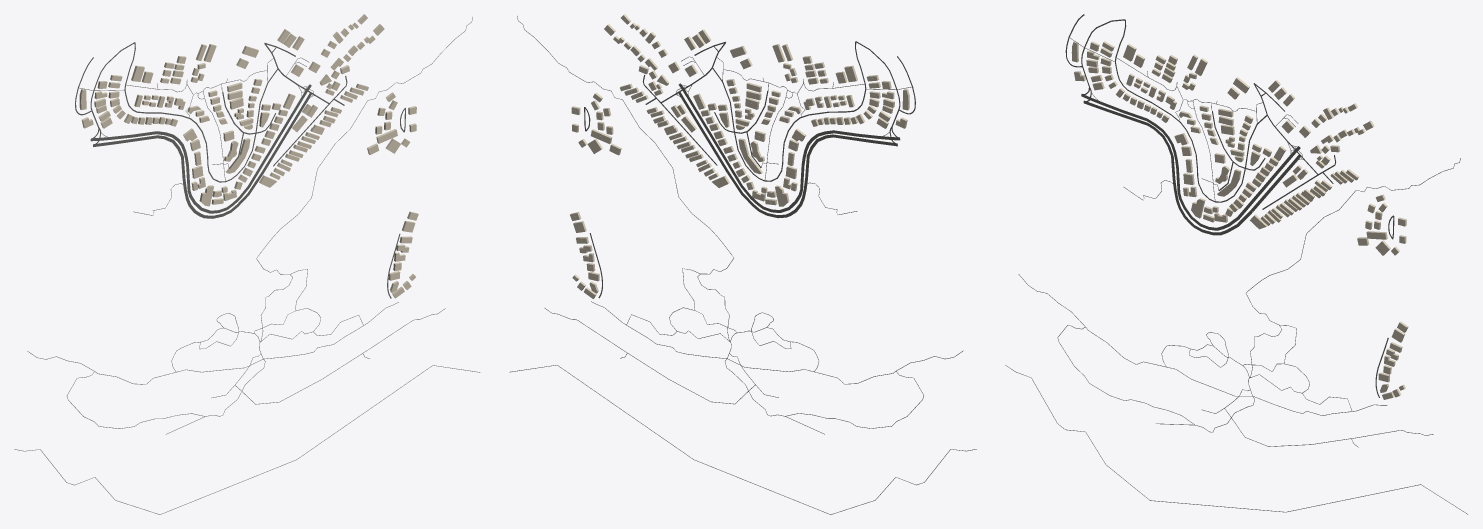
Rendered from historic-palestine-08_33_3498_3277.glb.
3 views of the same model, side by side, from view 1: azimuth 30°, elevation 25°; view 2: azimuth 150°, elevation 25°; view 3: azimuth 330°, elevation 25° (orthographic).
Parts seen in each view (by area): view 1: Road אברהם ויינשל.005, Road אברהם ויינשל, Road אלברט שוייצר, Road ואדי עובדיה; view 2: Road אברהם ויינשל.005, Road אברהם ויינשל, Road אלברט שוייצר, Road ואדי עובדיה; view 3: Road אברהם ויינשל.005, Road אברהם ויינשל, Road אלברט שוייצר, Road ואדי עובדיה.
Boxes of the visible parts, box(x1,y1,x2,y2) form: Road אברהם ויינשל.005: box(132, 100, 301, 213); Road אברהם ויינשל: box(93, 135, 263, 218); Road אלברט שוייצר: box(124, 42, 277, 182); Road ואדי עובדיה: box(14, 365, 480, 514); Road אברהם ויינשל.005: box(689, 99, 858, 212); Road אברהם ויינשל: box(727, 134, 897, 218); Road אלברט שוייצר: box(712, 41, 866, 181); Road ואדי עובדיה: box(509, 365, 976, 514); Road אברהם ויינשל.005: box(1122, 110, 1290, 230); Road אברהם ויינשל: box(1083, 100, 1252, 235); Road אלברט שוייצר: box(1115, 20, 1267, 202); Road ואדי עובדיה: box(1005, 365, 1467, 514).
Size of the model in its own units: 1319 by 1294 by 8.7.
